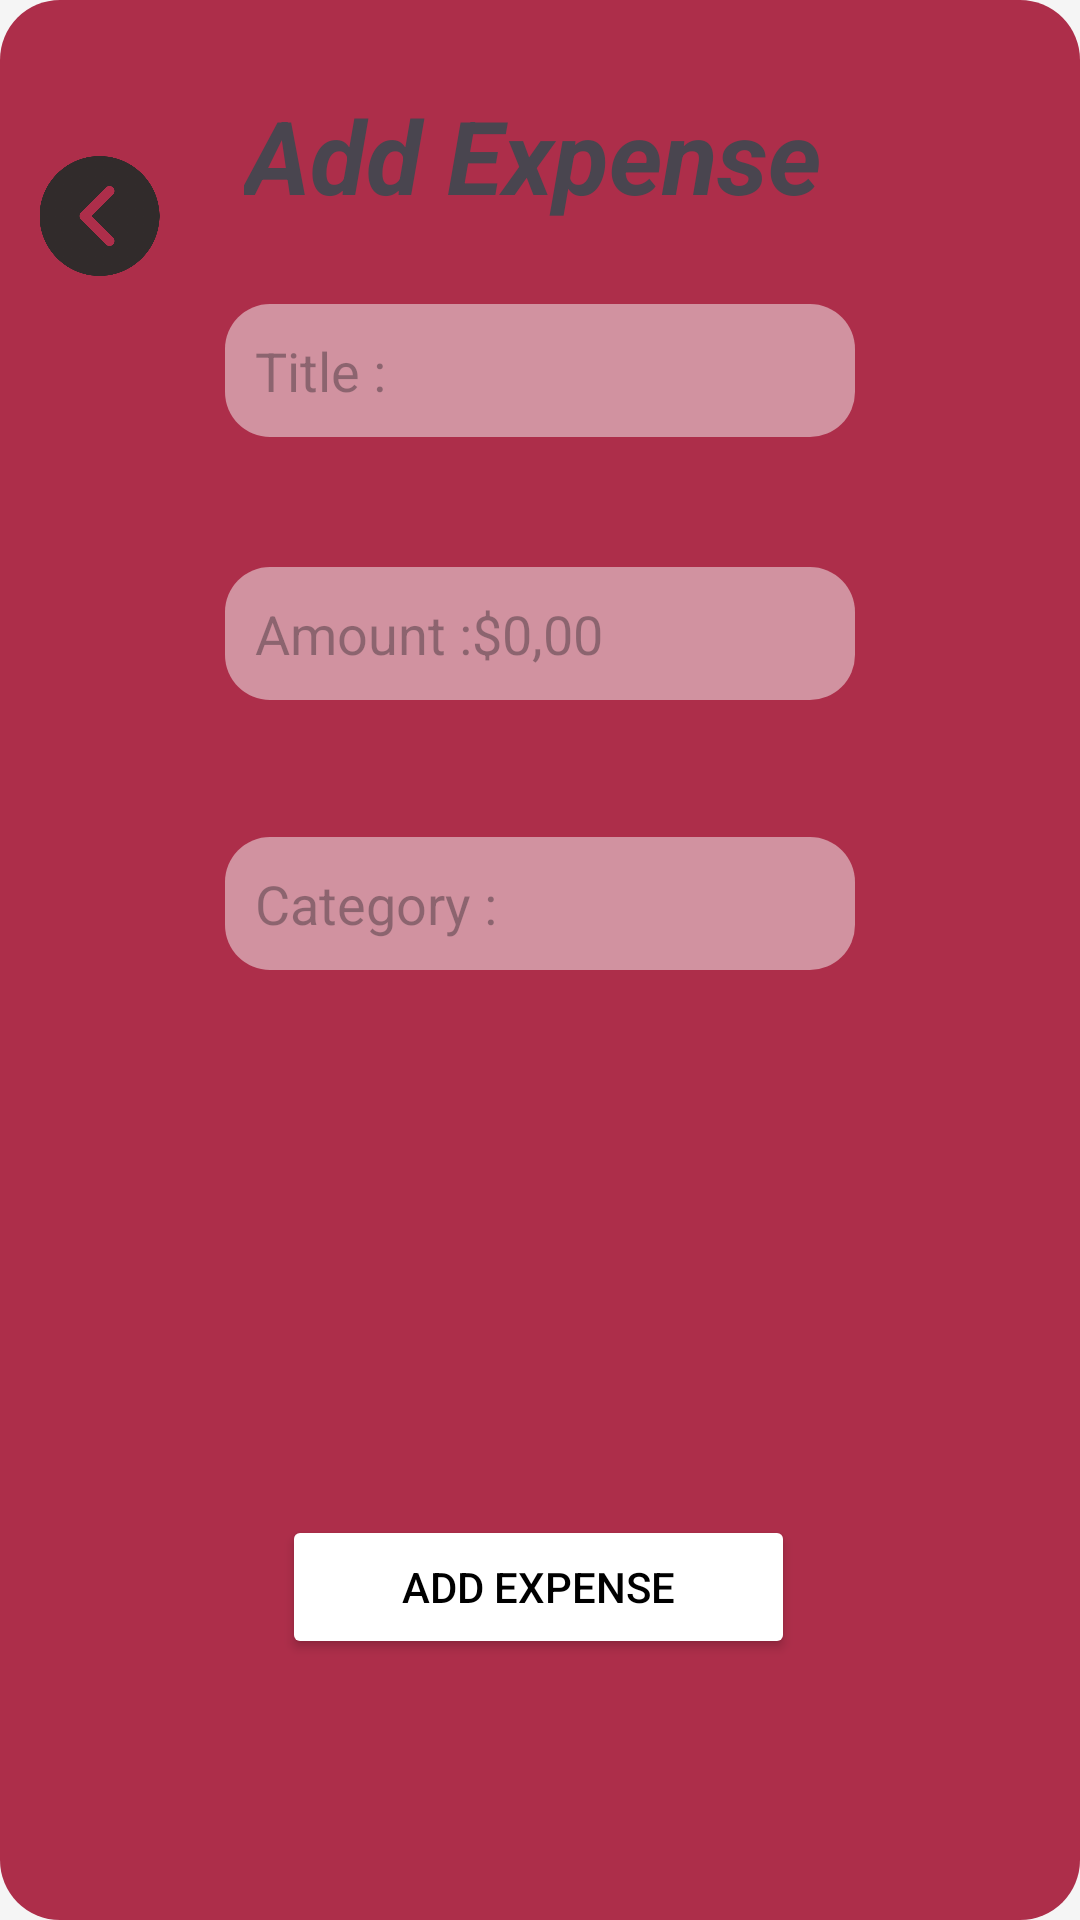

Where to tap for icons on this 1080x1920 app screen, as point (x, y):
previous: point (100, 216)
